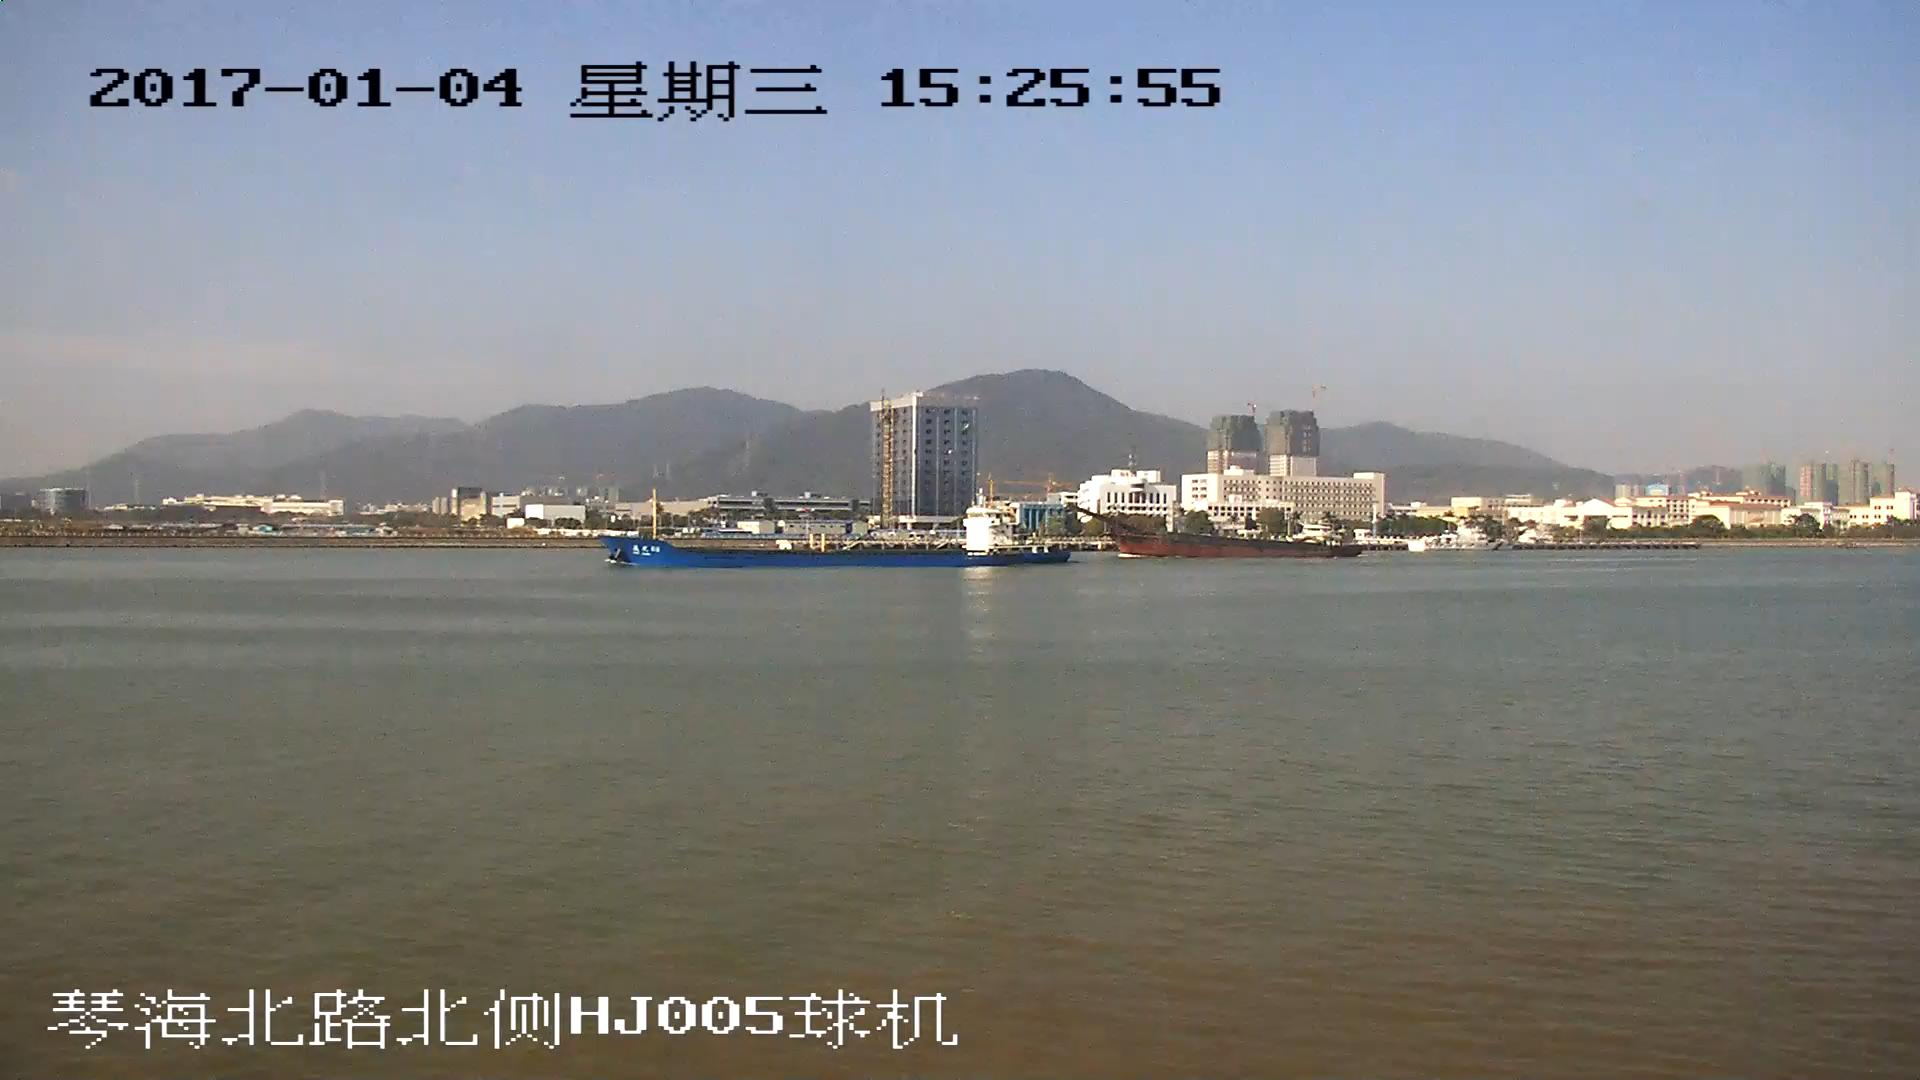bulk cargo carrier: (1067, 504, 1367, 562)
general cargo ship: (604, 483, 1059, 568)
